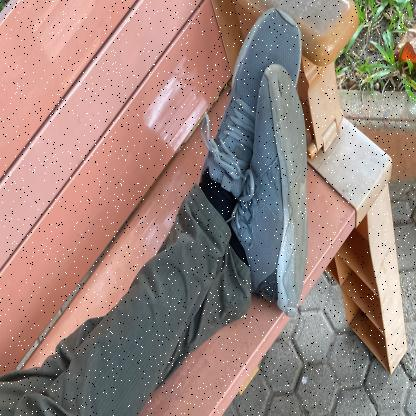leg: (119, 5, 325, 368)
